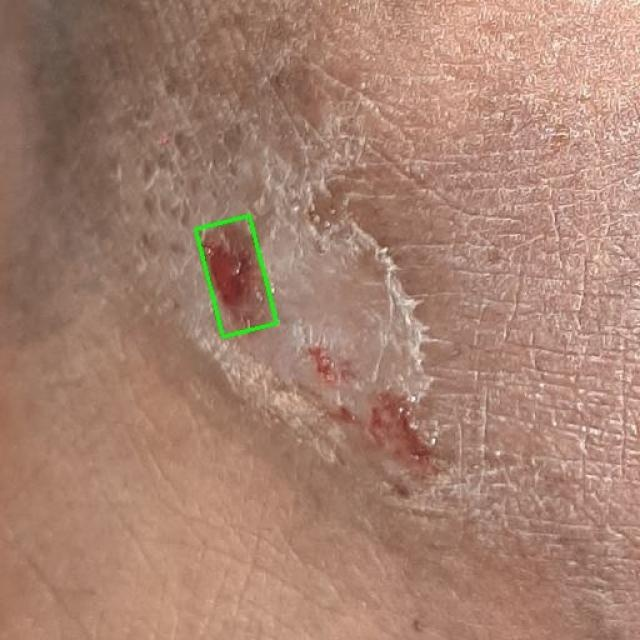Contact Dermatitis: (195, 215, 277, 337)
